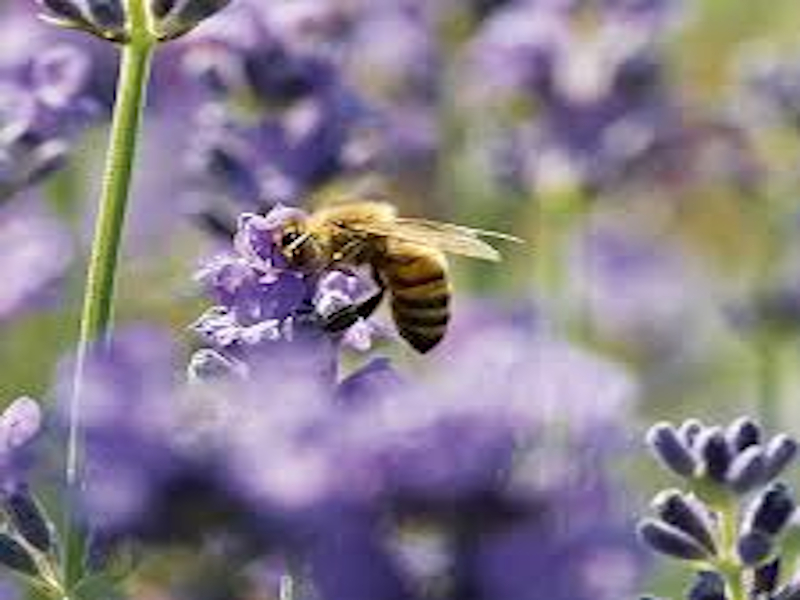abeja: (261, 180, 529, 368)
